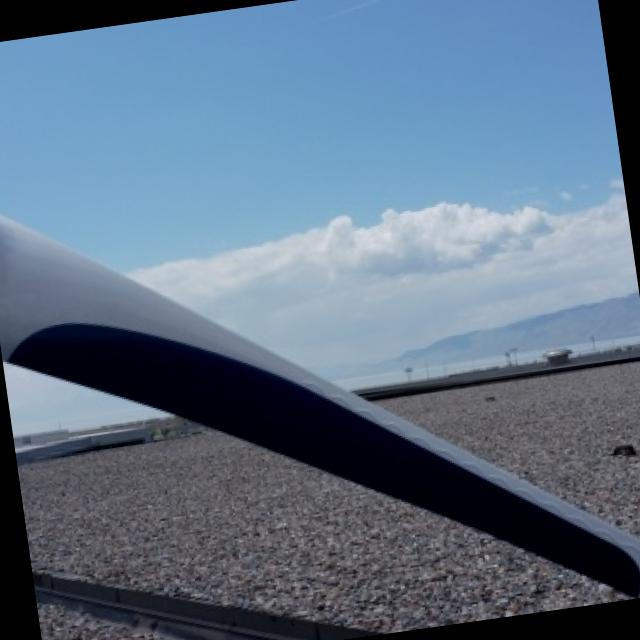healthy: (0, 216, 640, 593)
